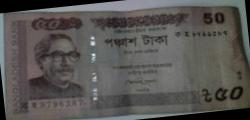50 taka: (3, 9, 236, 116)
